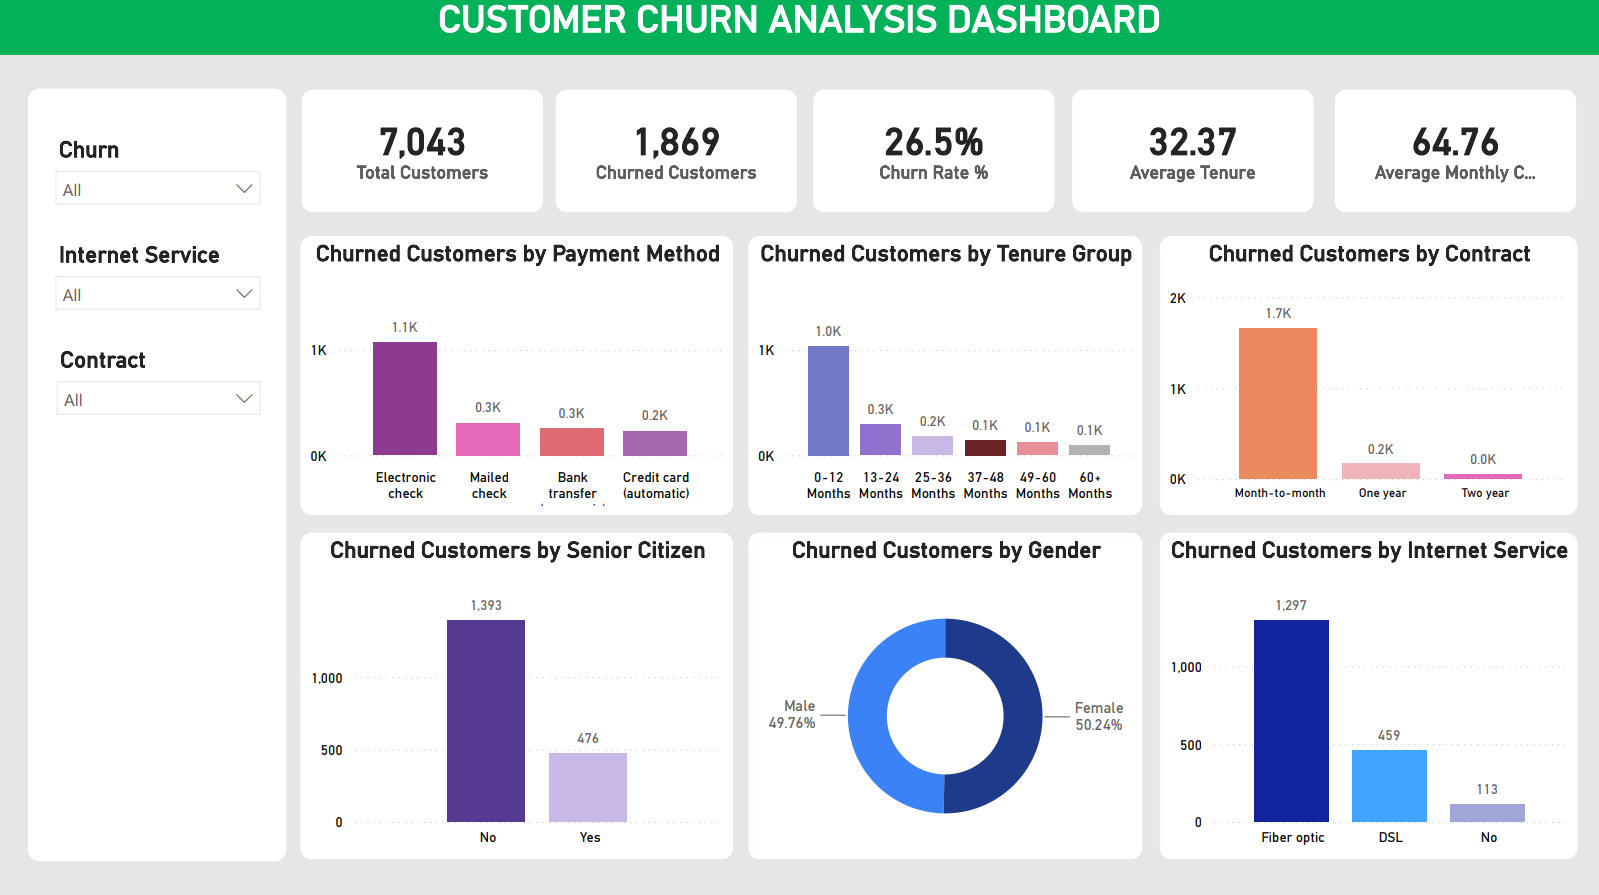

The dashboard page shown, as its layout file describes it:
{"tool":"powerbi","page":{"name":"Page 1","canvas":[1280,720],"ordinal":0},"visuals":[{"type":"shape","box":[23.3,73.3,207,617.4],"z":0},{"type":"cardVisual","title":"Churned Customers","fields":{"Data":["Telco_Customer_Churn_Cleaned.Churned Customers"]},"box":[444.2,73.3,195,100],"z":1000},{"type":"cardVisual","title":"Churn Rate","fields":{"Data":["Telco_Customer_Churn_Cleaned.Churn Rate %"]},"box":[650,73.3,195,100],"z":2000},{"type":"cardVisual","title":"Avg Monthly Charges","fields":{"Data":["Telco_Customer_Churn_Cleaned.Average Monthly Charges"]},"box":[1067.4,73.3,195,100],"z":3000},{"type":"cardVisual","title":"Average Tenure","fields":{"Data":["Telco_Customer_Churn_Cleaned.Average Tenure"]},"box":[857,73.3,195,100],"z":4000},{"type":"clusteredColumnChart","title":"Churned Customers by Contract","fields":{"Category":["Telco_Customer_Churn_Cleaned.Contract"],"Y":["Telco_Customer_Churn_Cleaned.Churned Customers"]},"box":[927,189.7,336.2,225.7],"z":5000},{"type":"clusteredColumnChart","title":"Churned Customers by Payment Method","fields":{"Category":["Telco_Customer_Churn_Cleaned.Payment Method"],"Y":["Telco_Customer_Churn_Cleaned.Churned Customers"]},"box":[240.2,189.7,348.2,225.7],"z":6000},{"type":"clusteredColumnChart","title":"Churned Customers by Internet Service","fields":{"Category":["Telco_Customer_Churn_Cleaned.Internet Service"],"Y":["Telco_Customer_Churn_Cleaned.Churned Customers"]},"box":[927,427.5,336.2,263],"z":7000},{"type":"donutChart","fields":{"Category":["Telco_Customer_Churn_Cleaned.Gender"],"Y":["Telco_Customer_Churn_Cleaned.Churned Customers"]},"box":[598,427.5,317,263],"z":8000},{"type":"clusteredColumnChart","title":"Churned Customers by Tenure Group","fields":{"Category":["Telco_Customer_Churn_Cleaned.Tenure Group"],"Y":["Telco_Customer_Churn_Cleaned.Churned Customers"]},"box":[598,189.7,317,225.7],"z":9000},{"type":"clusteredColumnChart","fields":{"Category":["Telco_Customer_Churn_Cleaned.Senior Citizen"],"Y":["Telco_Customer_Churn_Cleaned.Churned Customers"]},"box":[240.2,427.5,348.2,263],"z":10000},{"type":"slicer","fields":{"Values":["Telco_Customer_Churn_Cleaned.Contract"]},"box":[36,273.8,182.6,83.7],"z":11000},{"type":"slicer","fields":{"Values":["Telco_Customer_Churn_Cleaned.Internet Service"]},"box":[34.8,189.7,183.7,83.7],"z":12000},{"type":"slicer","fields":{"Values":["Telco_Customer_Churn_Cleaned.Churn Label"]},"box":[34.8,105.7,183.7,83.7],"z":13000},{"type":"textbox","title":"CUSTOMER CHURN ANALYSIS DASHBOARD","box":[0,0,1280,45.6],"z":14000},{"type":"cardVisual","fields":{"Data":["Telco_Customer_Churn_Cleaned.Total Customers"]},"box":[240.7,73.3,195,100],"z":15000}]}

Visuals, with their boxes in screenshot pixels (x1, y1, x2, y2), scaled from the page's 1280x720 canvas onto the 1599x895 screenshot:
shape: l=29, t=91, r=288, b=859
"Churned Customers" cardVisual: l=555, t=91, r=799, b=215
"Churn Rate" cardVisual: l=812, t=91, r=1056, b=215
"Avg Monthly Charges" cardVisual: l=1333, t=91, r=1577, b=215
"Average Tenure" cardVisual: l=1071, t=91, r=1314, b=215
"Churned Customers by Contract" clusteredColumnChart: l=1158, t=236, r=1578, b=516
"Churned Customers by Payment Method" clusteredColumnChart: l=300, t=236, r=735, b=516
"Churned Customers by Internet Service" clusteredColumnChart: l=1158, t=531, r=1578, b=858
donutChart - Telco_Customer_Churn_Cleaned.Gender x Telco_Customer_Churn_Cleaned.Churned Customers: l=747, t=531, r=1143, b=858
"Churned Customers by Tenure Group" clusteredColumnChart: l=747, t=236, r=1143, b=516
clusteredColumnChart - Telco_Customer_Churn_Cleaned.Senior Citizen x Telco_Customer_Churn_Cleaned.Churned Customers: l=300, t=531, r=735, b=858
slicer - Telco_Customer_Churn_Cleaned.Contract: l=45, t=340, r=273, b=444
slicer - Telco_Customer_Churn_Cleaned.Internet Service: l=43, t=236, r=273, b=340
slicer - Telco_Customer_Churn_Cleaned.Churn Label: l=43, t=131, r=273, b=235
"CUSTOMER CHURN ANALYSIS DASHBOARD" textbox: l=0, t=0, r=1598, b=57
cardVisual - Telco_Customer_Churn_Cleaned.Total Customers: l=301, t=91, r=544, b=215
